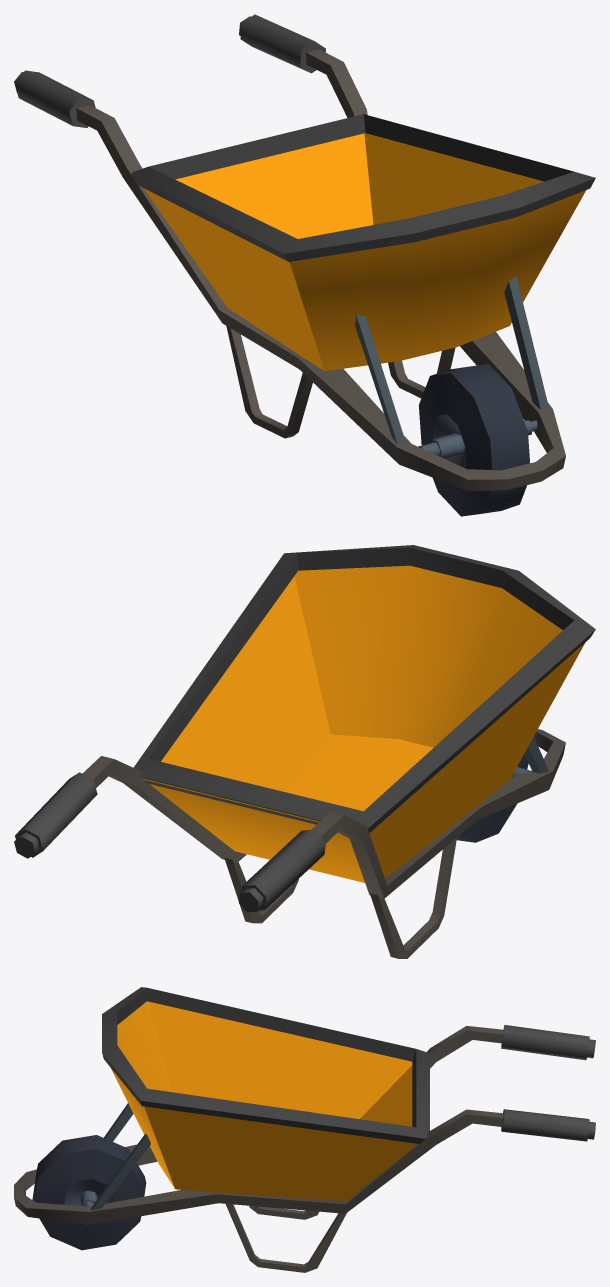
The model's file is WheelBarel_6.fbx.
3 views of the same model, one above another, from view 1: azimuth 30°, elevation 25°; view 2: azimuth 150°, elevation 25°; view 3: azimuth 270°, elevation 25° (orthographic). The views are drawn at different scales.
Visible parts, largest first — view 1: WheelBarel_6; view 2: WheelBarel_6; view 3: WheelBarel_6.
Boxes of the visible parts, x1,y1,x2,y2 form: WheelBarel_6: [14, 14, 595, 516]; WheelBarel_6: [14, 545, 595, 958]; WheelBarel_6: [14, 987, 595, 1272].
Size of the model in its own units: 99.88 by 88.56 by 216.
